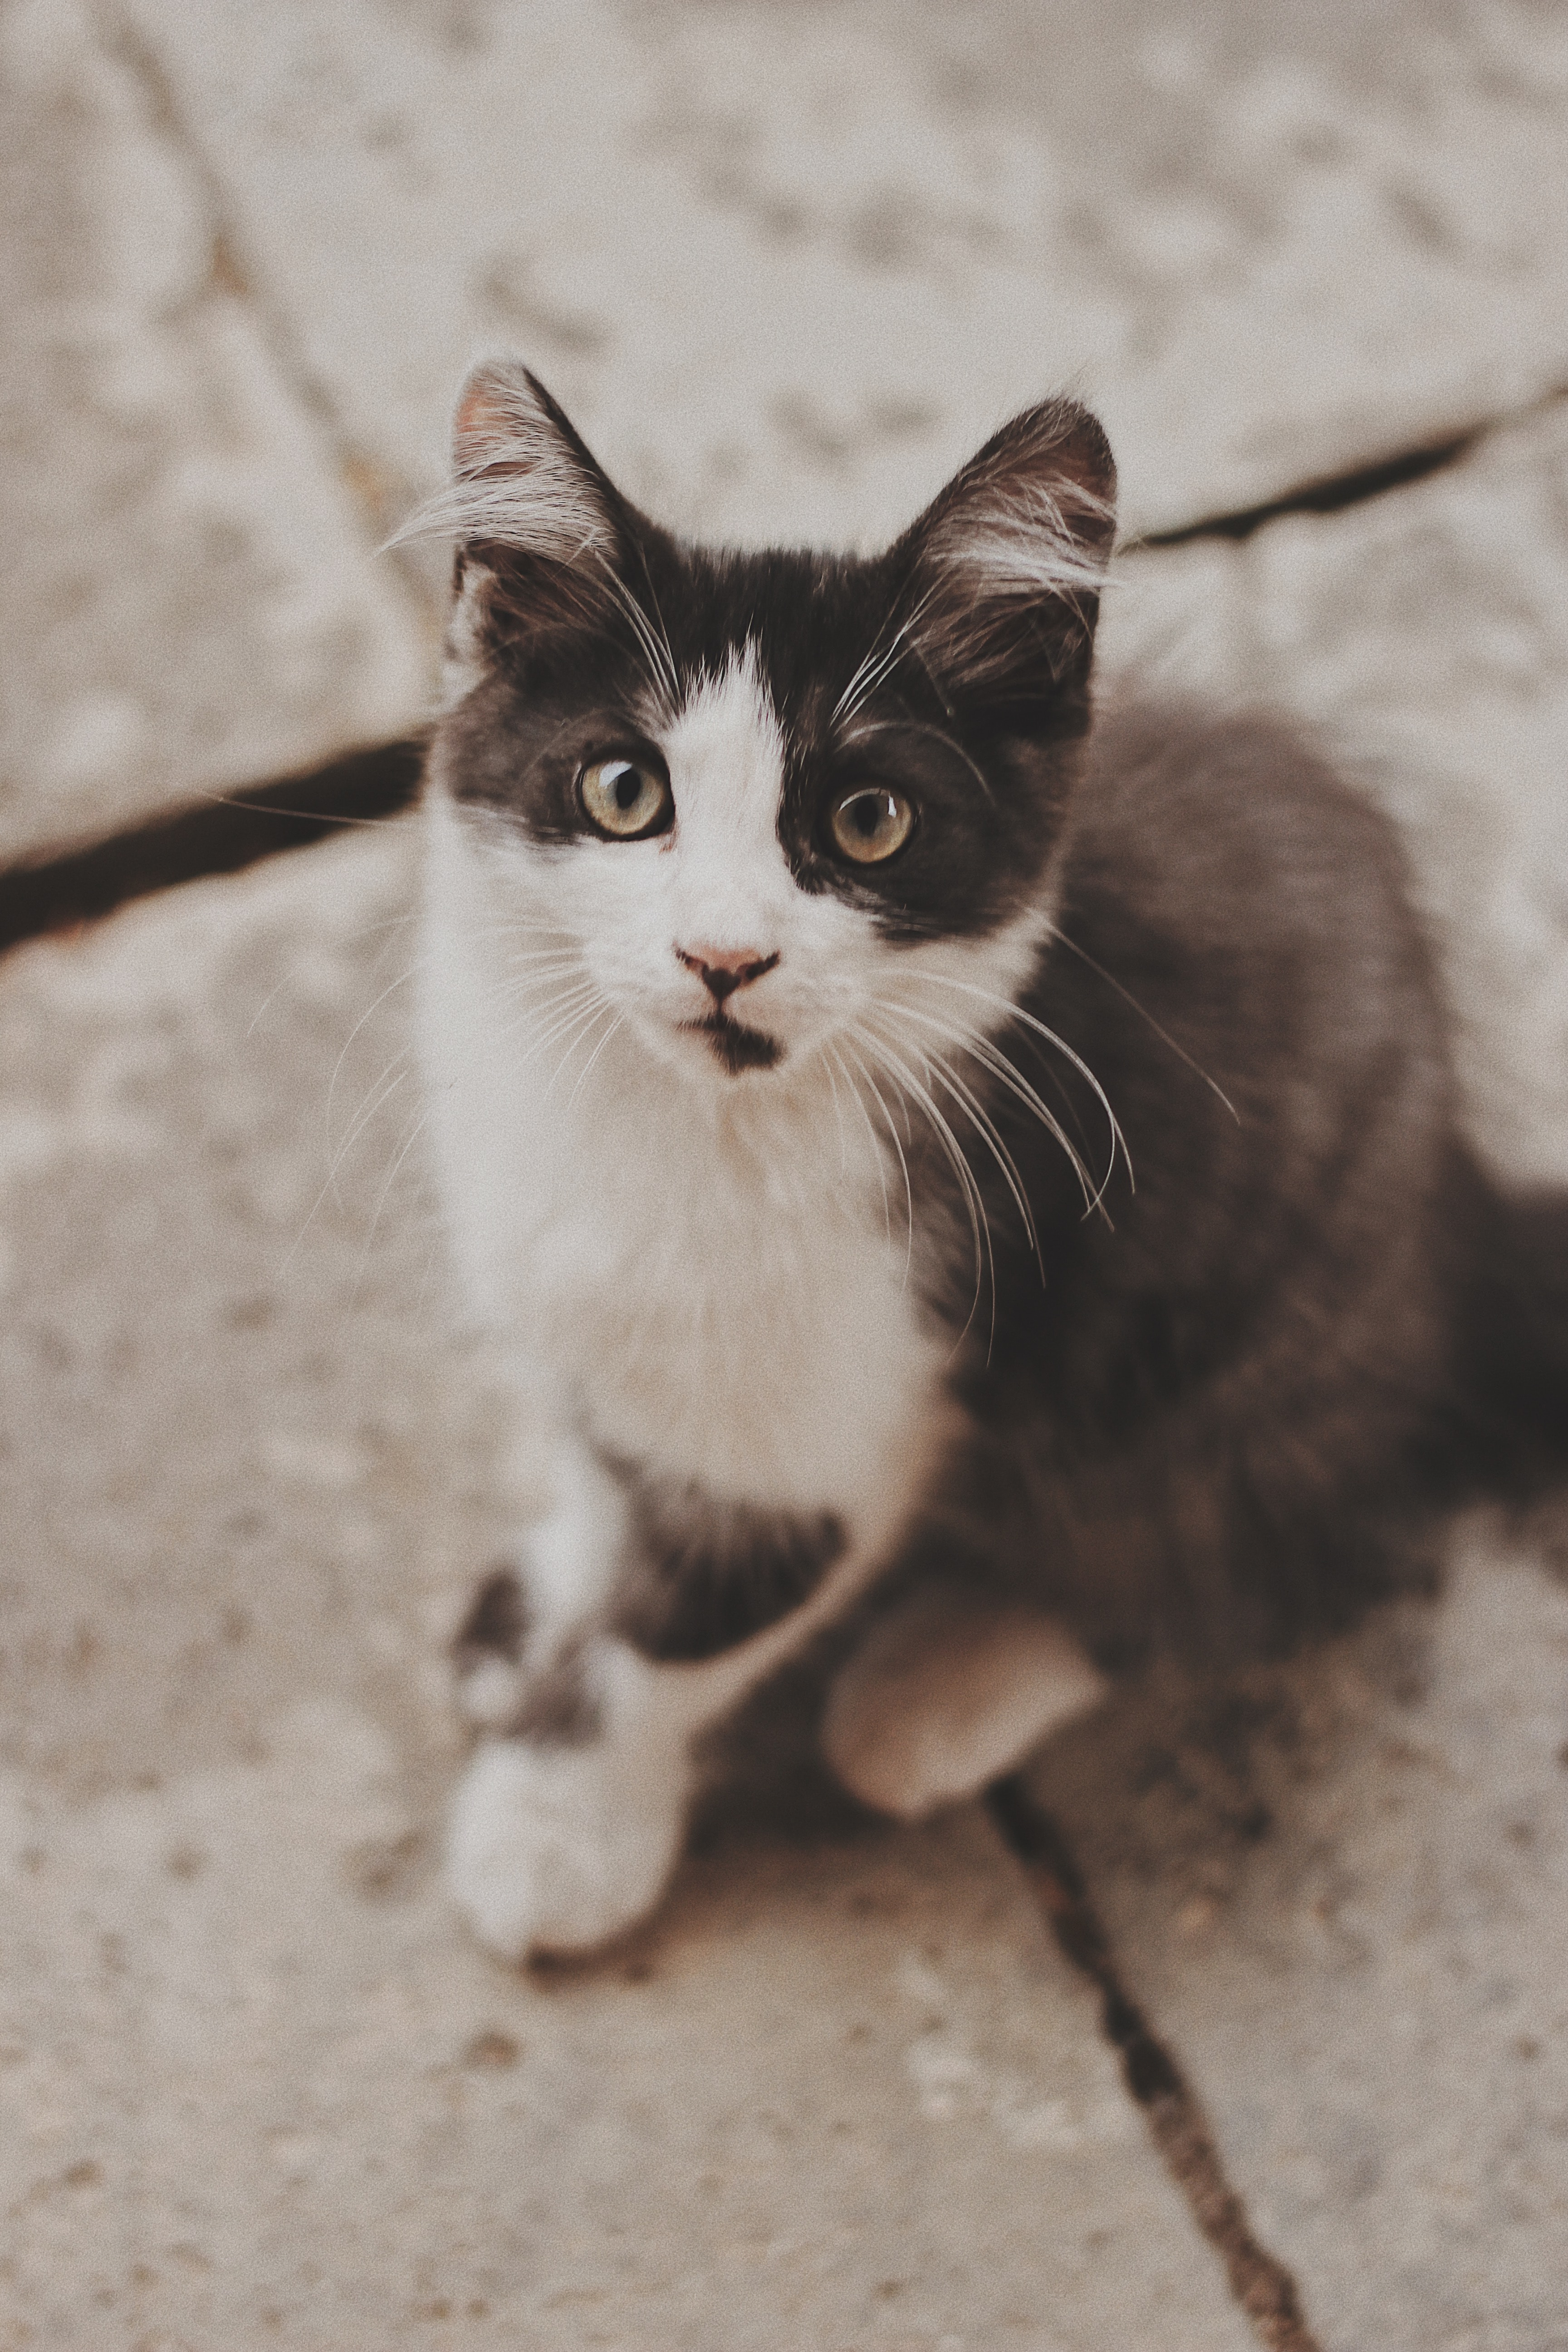cat: (252, 327, 1568, 2062)
